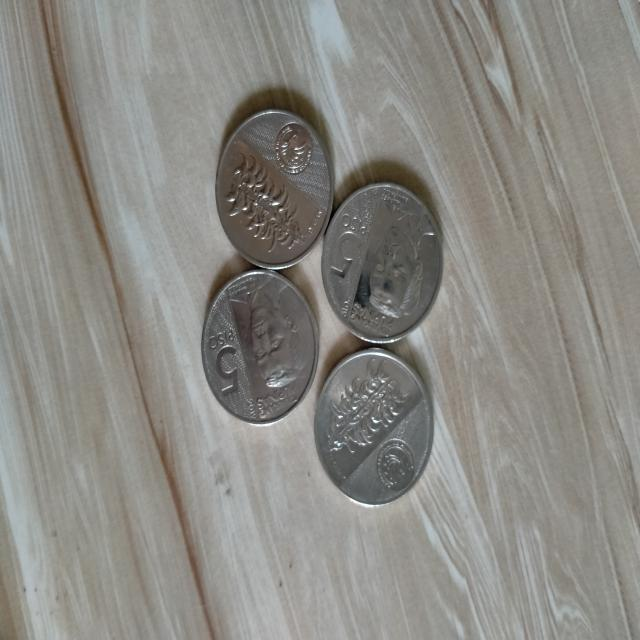5_New_Back: (213, 148, 314, 251), (318, 348, 410, 461)
5_New_Front: (200, 316, 249, 408), (326, 199, 371, 287)
